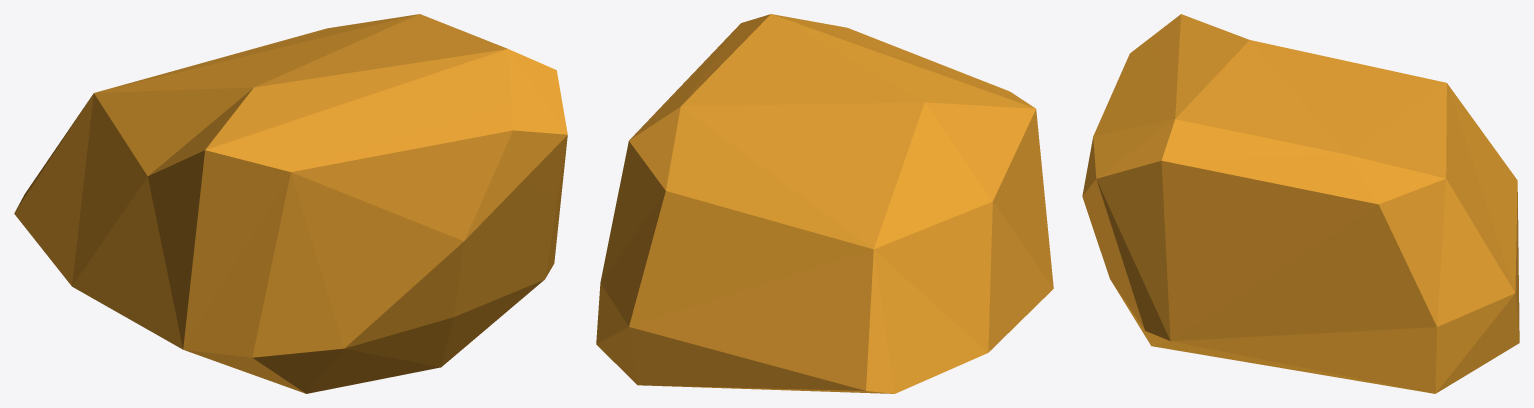
The model's file is SM_Stone_E.fbx.
3 renders of one model, left to right at view 1: azimuth 30°, elevation 25°; view 2: azimuth 150°, elevation 25°; view 3: azimuth 270°, elevation 25°, orthographic. The views are drawn at different scales.
Parts seen in each view (by area): view 1: stone-e; view 2: stone-e; view 3: stone-e.
Boxes of the visible parts, x1,y1,x2,y2 form: stone-e: (14, 14, 567, 393); stone-e: (596, 14, 1053, 393); stone-e: (1082, 14, 1519, 393).
Bounding box in the file's own units: 0.65 × 0.4586 × 0.6922.
